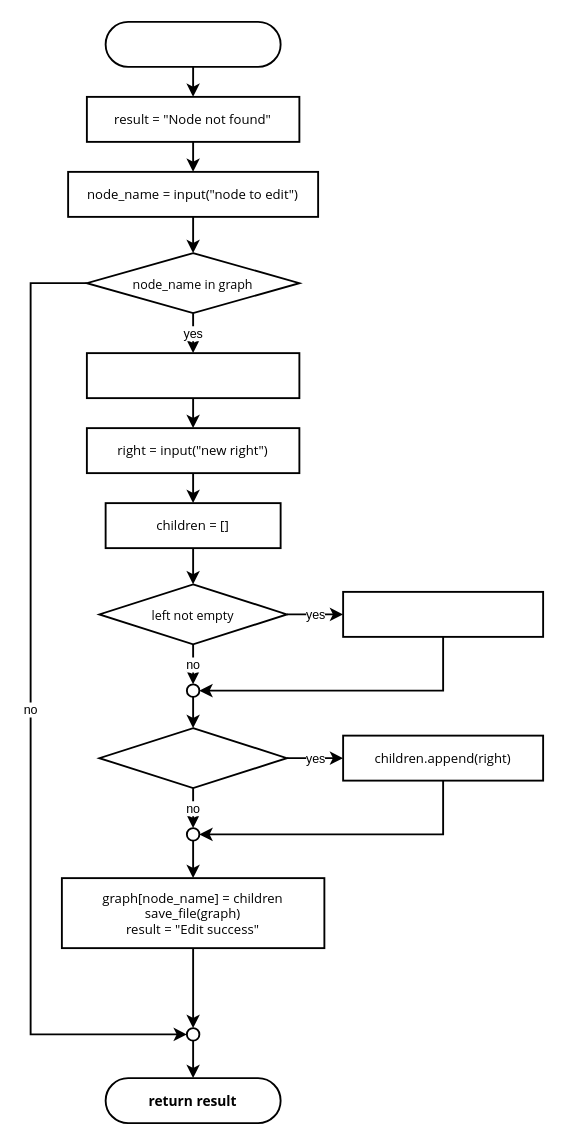
The diagram is 566 pixels wide and 1146 high, and some of its shapes have lost their labels. Each missing label, with the centre of its shape:
children.append(left): the point at 443,613
edit_data(): the point at 192,43
left = input("new left"): the point at 192,375
right not empty: the point at 192,757
